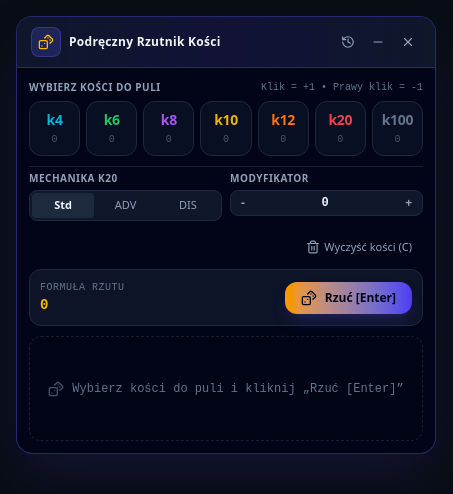
DraggableDiceTray Component › increments dice pool count when clicking dice buttons
// Click d6 twice
Click the button with test id "die-btn-d6": (112, 128) left=86, top=101, right=137, bottom=156
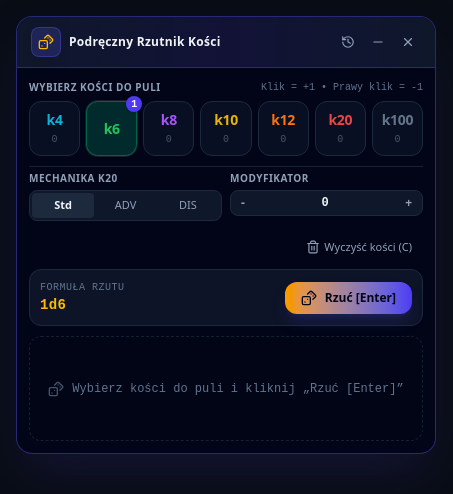
Click the button with test id "die-btn-d6": (112, 128) left=86, top=101, right=137, bottom=156
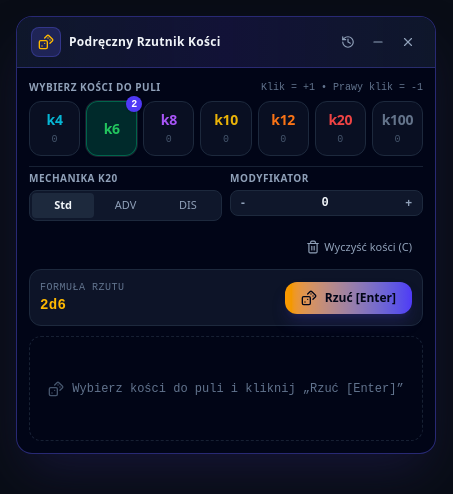
// Click d20 once
Click the button with test id "die-btn-d20": (340, 128) left=315, top=101, right=366, bottom=156
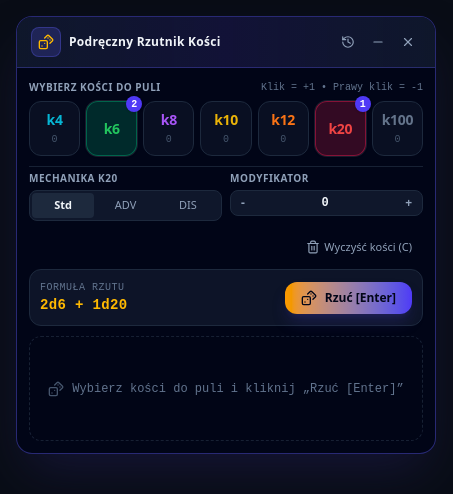
Result: the text with test id "dice-pool-formula" reads "2d6 + 1d20" at left=40, top=297, right=128, bottom=313
